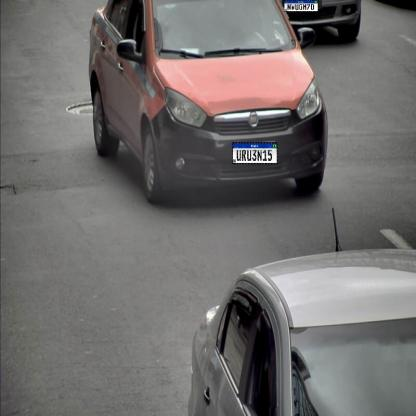PlacaM: (232, 142, 278, 164), (284, 0, 318, 12)
